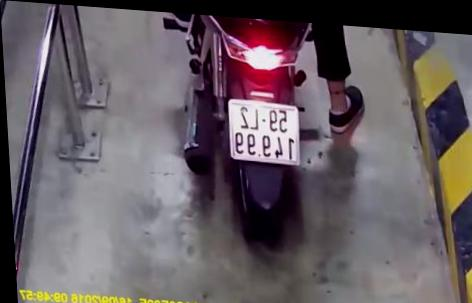License_Plate: (218, 94, 312, 172)
